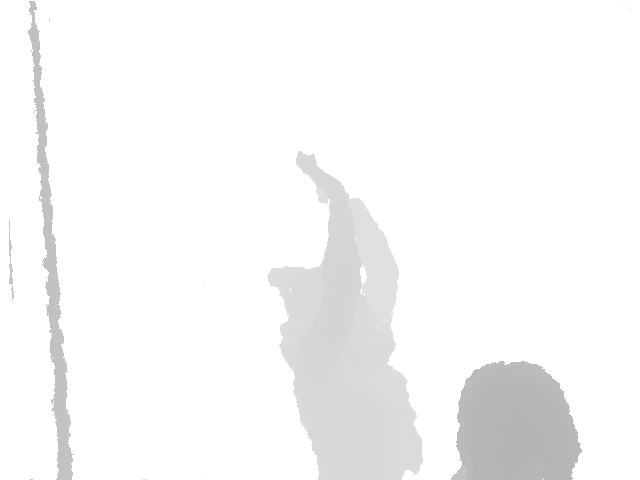hand: (294, 151, 318, 177), (314, 183, 336, 203)
head: (451, 361, 582, 480), (267, 265, 356, 321)
person: (266, 150, 424, 480)
